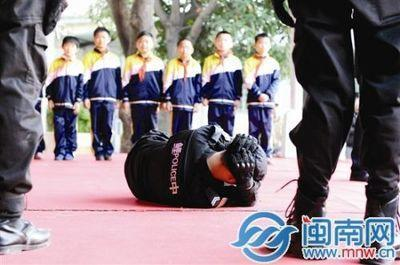Fall-Detected: (113, 116, 275, 211)
